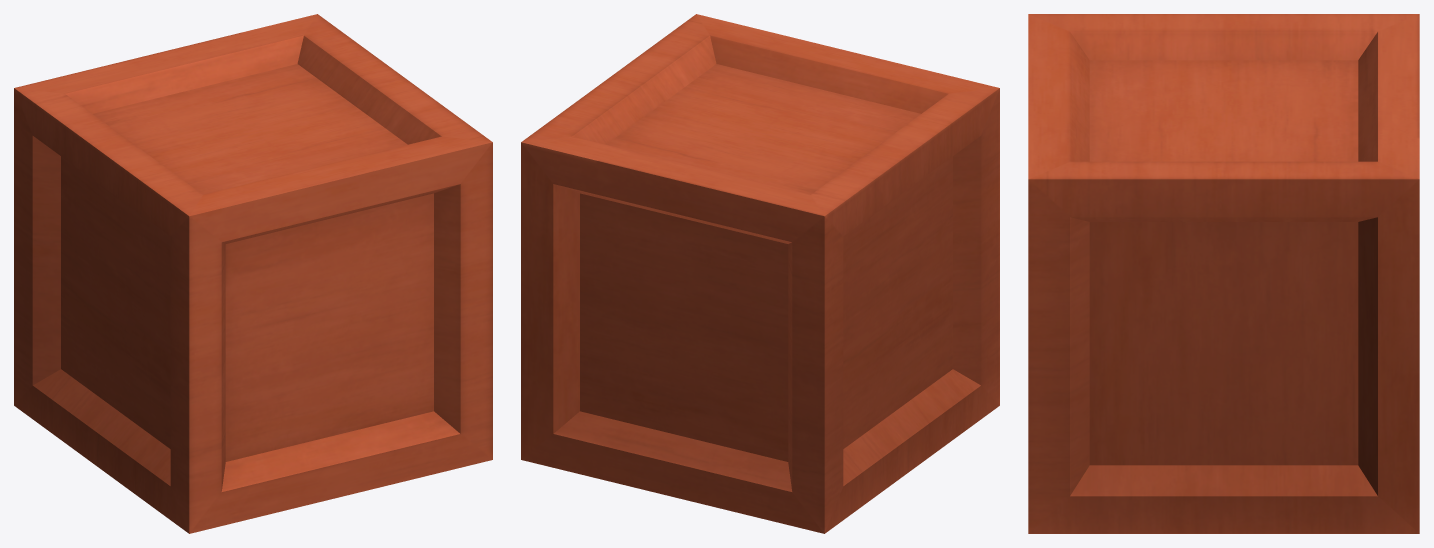
Rendered from woodBox01_01.fbx.
3 views of the same model, side by side, from view 1: azimuth 30°, elevation 25°; view 2: azimuth 150°, elevation 25°; view 3: azimuth 270°, elevation 25° (orthographic). The views are drawn at different scales.
Parts seen in each view (by area): view 1: polySurface183; view 2: polySurface183; view 3: polySurface183.
Boxes of the visible parts, <box> form: polySurface183: <box>14,14,492,533</box>; polySurface183: <box>521,14,999,533</box>; polySurface183: <box>1028,14,1419,533</box>.
Bounding box in the file's own units: 10.09 × 10.09 × 10.09.
Materials: 1 (1 with a texture image).
